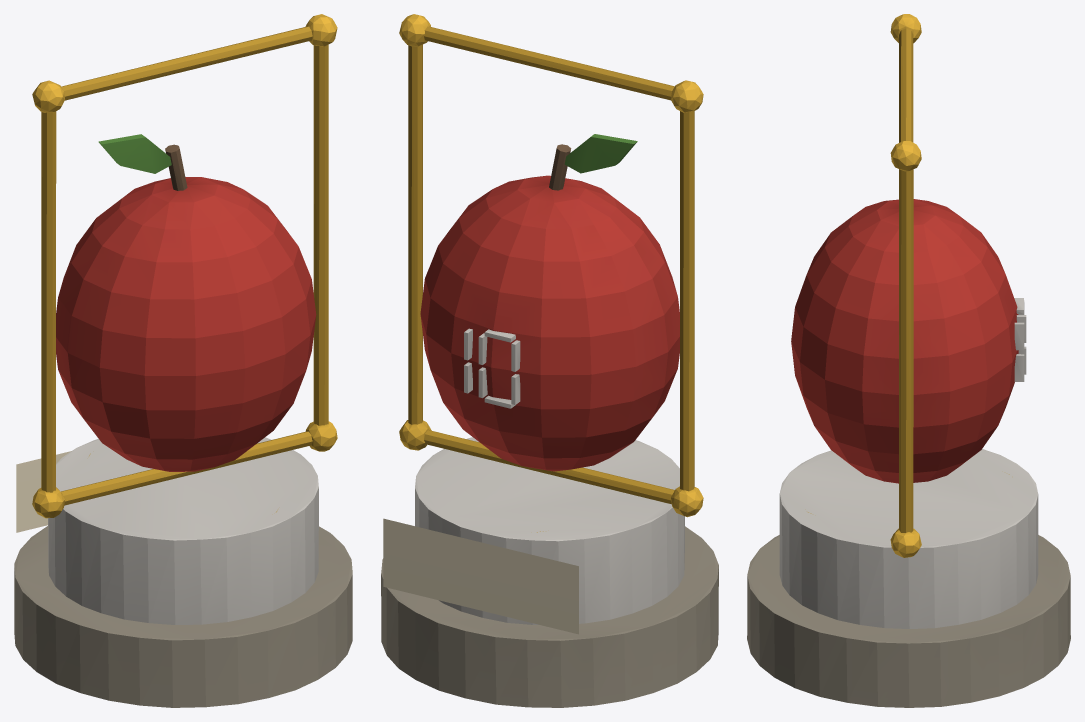
The model's file is trophy_apple_low.glb.
The picture shows the model from 3 angles, left to right: view 1: azimuth 30°, elevation 25°; view 2: azimuth 150°, elevation 25°; view 3: azimuth 270°, elevation 25°; orthographic projection. The views are drawn at different scales.
Parts seen in each view (by area): view 1: symbol, common_pedestal, trophy_plate; view 2: symbol, common_pedestal, trophy_plate; view 3: common_pedestal, symbol.
Boxes of the visible parts, left/top/right/bottom form: symbol: left=32, top=14, right=337, bottom=518; common_pedestal: left=14, top=437, right=352, bottom=707; trophy_plate: left=16, top=451, right=71, bottom=532; symbol: left=399, top=14, right=703, bottom=517; common_pedestal: left=381, top=437, right=718, bottom=707; trophy_plate: left=383, top=518, right=578, bottom=634; common_pedestal: left=747, top=449, right=1070, bottom=707; symbol: left=791, top=14, right=1026, bottom=557.
Size of the model in its own units: 0.9191 by 1.72 by 0.8987.
